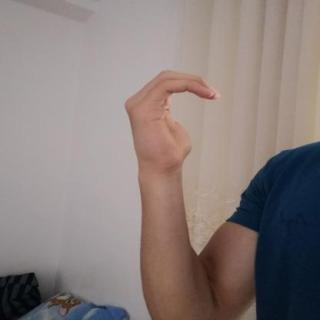HAA: (113, 62, 235, 179)
